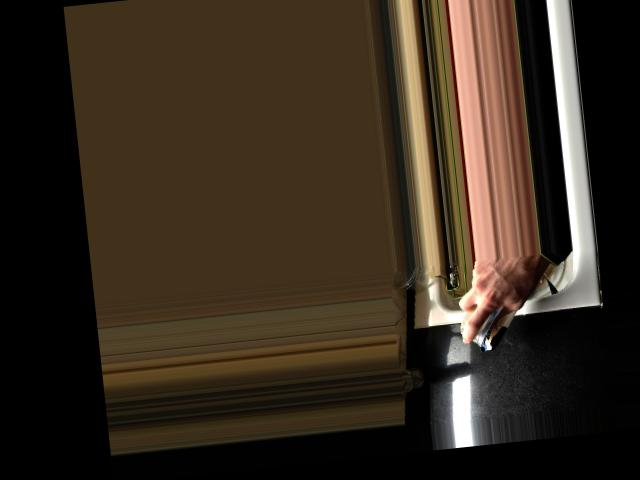cheese: (458, 260, 533, 356)
